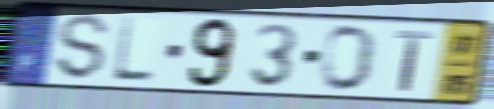3: (247, 22, 300, 89)
9: (184, 16, 241, 91)
L: (109, 15, 157, 85)
O: (319, 22, 380, 94)
S: (54, 12, 112, 83)
T: (392, 27, 435, 94)
